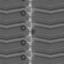dust: (31, 28, 35, 34)
